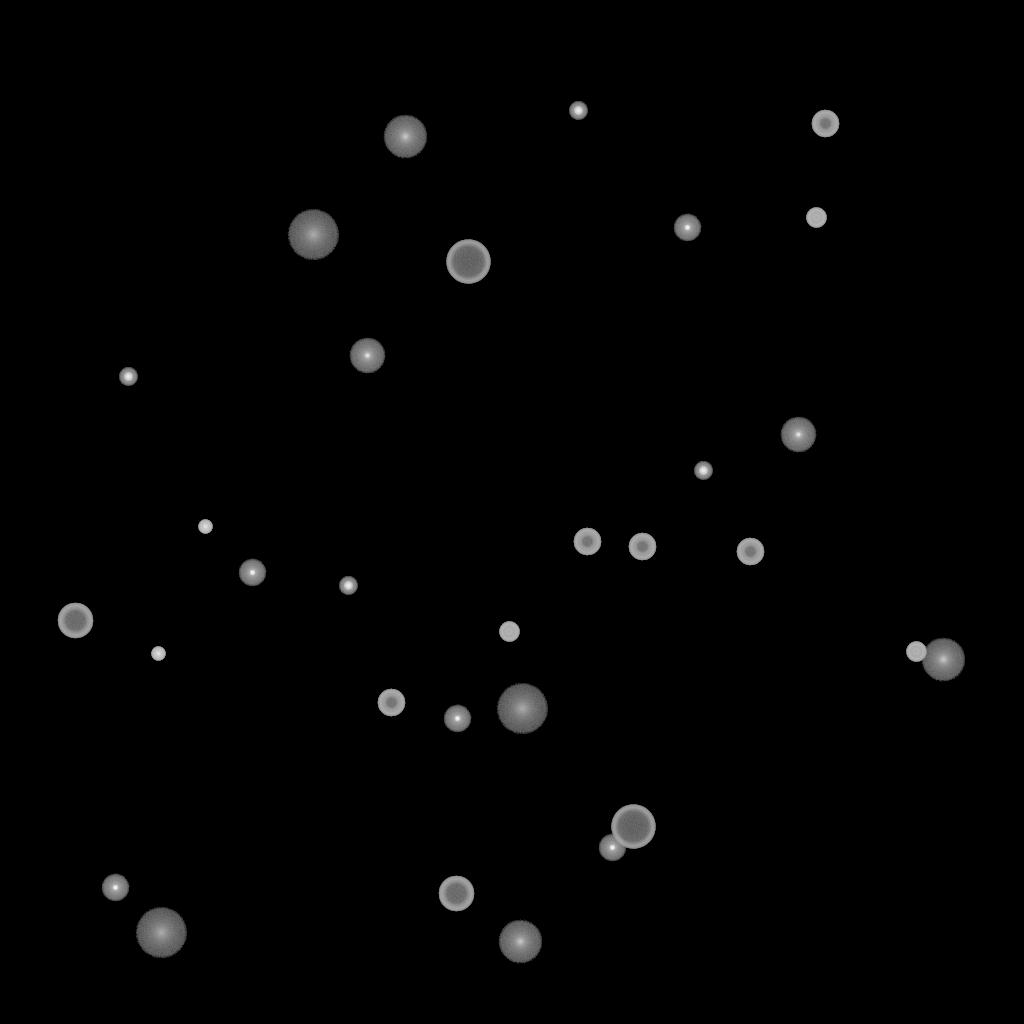depth:-10: (673, 214, 701, 242), (238, 559, 266, 587), (101, 874, 129, 902), (443, 705, 471, 733), (598, 834, 626, 862)
depth:-20: (339, 577, 357, 595), (569, 102, 587, 120), (119, 368, 137, 386), (694, 462, 712, 480)
depth:-30: (151, 647, 165, 661), (198, 520, 212, 534)
depth:-40: (806, 208, 826, 228), (906, 642, 926, 662), (499, 622, 519, 642)
depth:-50: (736, 538, 764, 566), (377, 689, 405, 717), (811, 110, 839, 138), (573, 528, 601, 556), (628, 533, 656, 561)
depth:-60: (438, 876, 474, 912), (57, 603, 93, 639)
depth:-70: (446, 240, 490, 284), (611, 805, 655, 849)
depth:0: (780, 417, 816, 453), (349, 338, 385, 374)
depth:10: (498, 920, 542, 964), (383, 115, 427, 159), (921, 638, 965, 682)
depth:20: (287, 210, 339, 260), (135, 908, 187, 958), (496, 684, 548, 734)
